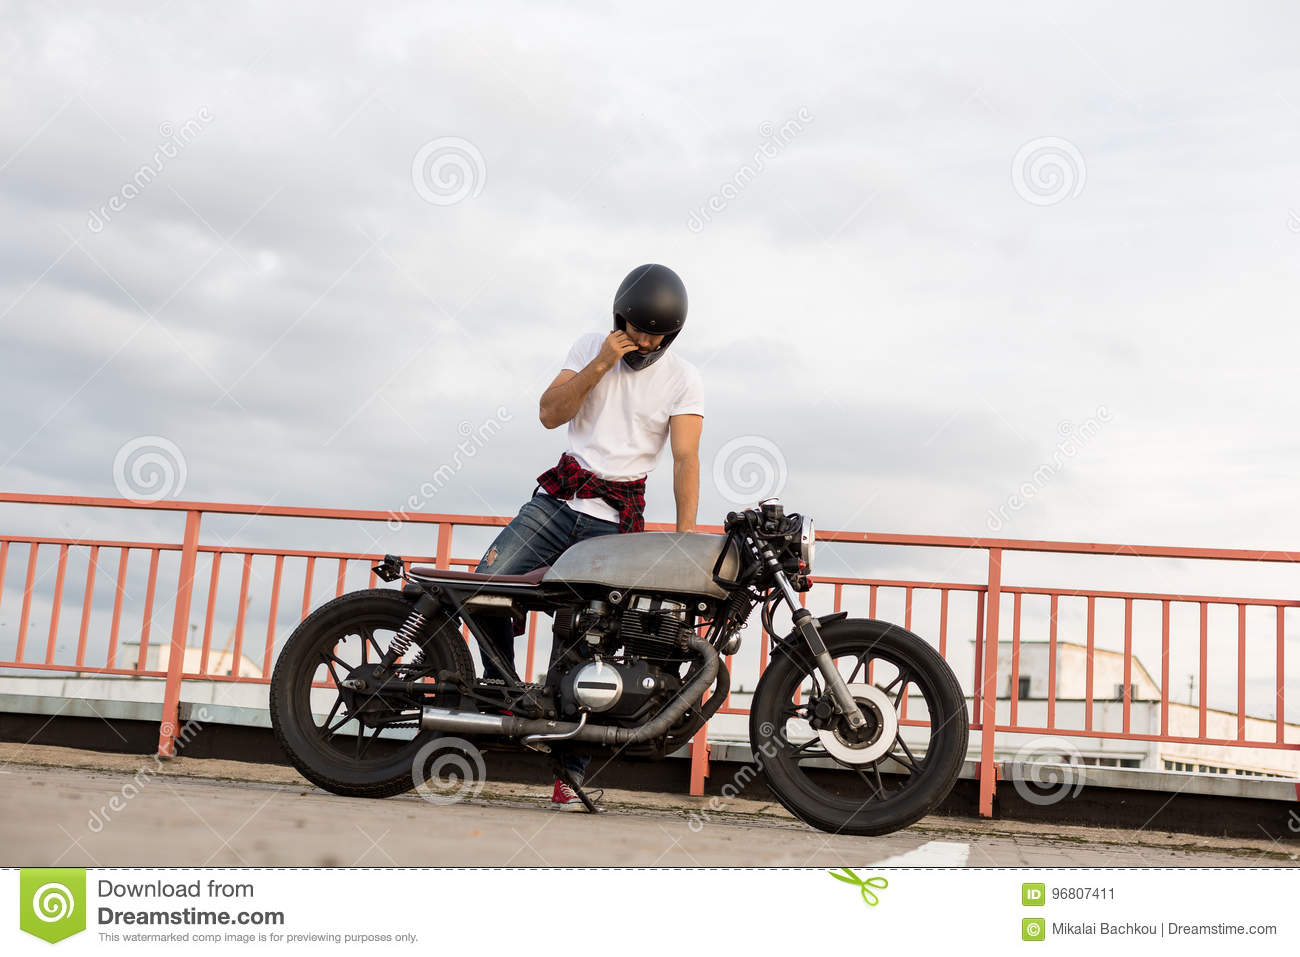helmet: (607, 261, 689, 373)
